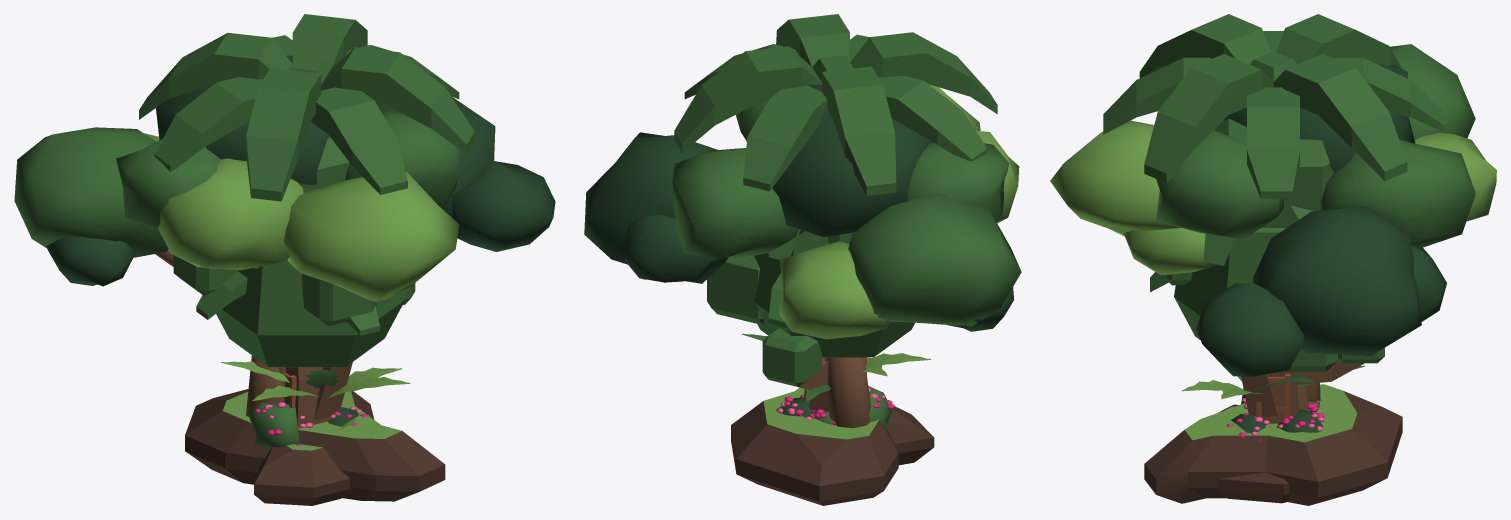
The model's file is kit.glb.
The picture shows the model from 3 angles, left to right: view 1: azimuth 30°, elevation 25°; view 2: azimuth 150°, elevation 25°; view 3: azimuth 270°, elevation 25°; orthographic projection. The views are drawn at different scales.
Parts seen in each view (by area): view 1: tree_big, palm_tall, rock_a, tree_oak, tree_round, rock_b, bougainvillea, banana, palm_short, palm_bend; view 2: tree_big, palm_tall, rock_a, tree_round, tree_oak, rock_b, bougainvillea, banana, palm_short; view 3: tree_big, palm_tall, rock_a, tree_round, tree_oak, palm_bend, rock_b, bougainvillea, banana, palm_short.
Boxes of the visible parts, <box> form: tree_big: <box>14,55,555,417</box>; palm_tall: <box>139,14,474,427</box>; rock_a: <box>185,389,445,501</box>; tree_oak: <box>216,259,405,367</box>; tree_round: <box>173,136,415,326</box>; rock_b: <box>254,444,350,505</box>; bougainvillea: <box>248,402,368,448</box>; banana: <box>221,361,410,400</box>; palm_short: <box>196,271,380,386</box>; palm_bend: <box>254,266,352,420</box>; tree_big: <box>584,84,1021,428</box>; palm_tall: <box>674,14,997,400</box>; rock_a: <box>731,387,898,505</box>; tree_round: <box>707,232,854,390</box>; tree_oak: <box>754,231,914,357</box>; rock_b: <box>886,406,934,465</box>; bougainvillea: <box>776,386,894,432</box>; banana: <box>742,333,930,401</box>; palm_short: <box>768,273,829,411</box>; tree_big: <box>1050,44,1496,401</box>; palm_tall: <box>1103,14,1443,423</box>; rock_a: <box>1144,384,1402,505</box>; tree_round: <box>1162,118,1384,384</box>; tree_oak: <box>1174,228,1286,339</box>; palm_bend: <box>1203,206,1313,416</box>; rock_b: <box>1216,404,1290,503</box>; bougainvillea: <box>1226,394,1325,440</box>; banana: <box>1182,365,1364,399</box>; palm_short: <box>1150,272,1308,410</box>.
Bounding box in the file's own units: 8.89 × 7.8 × 7.45.
